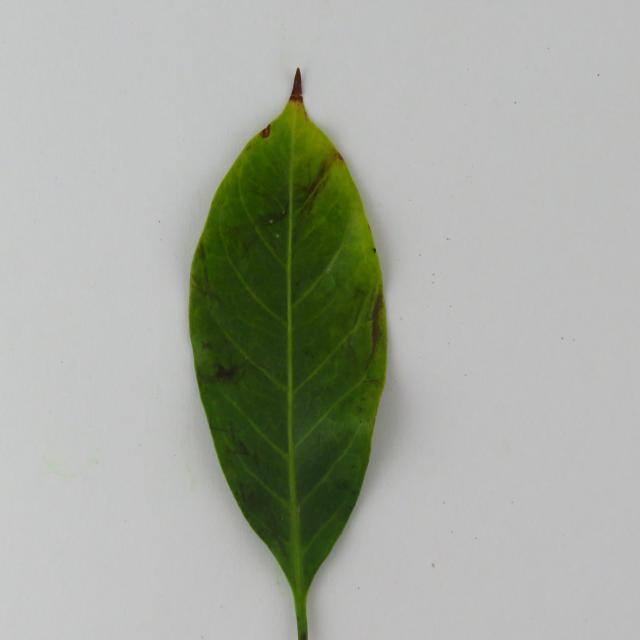DeficienciaNutricional-Potasio: (190, 70, 386, 638)
